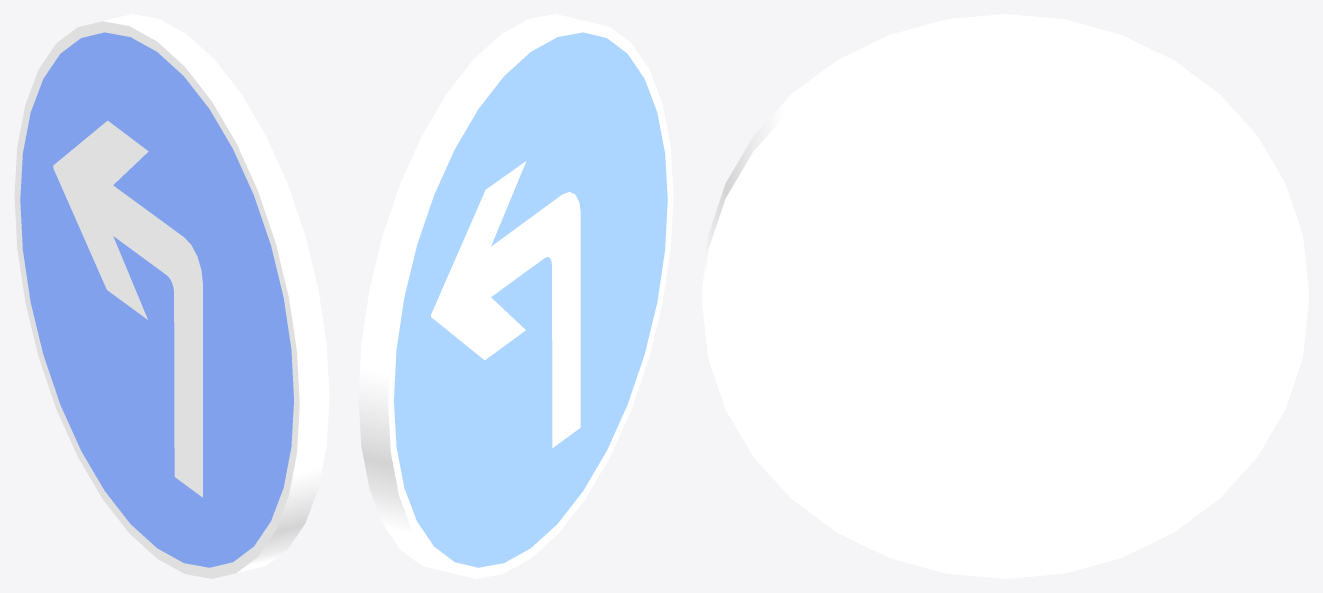
File: Turn_Left.glb
The picture shows the model from 3 angles, left to right: view 1: azimuth 30°, elevation 25°; view 2: azimuth 150°, elevation 25°; view 3: azimuth 270°, elevation 25°; orthographic projection. The views are drawn at different scales.
Visible parts, largest first — view 1: Turn_Left; view 2: Turn_Left; view 3: Turn_Left.
Boxes of the visible parts, x1,y1,x2,y2 form: Turn_Left: [14, 14, 329, 578]; Turn_Left: [358, 14, 673, 578]; Turn_Left: [702, 14, 1308, 578].
Bounding box in the file's own units: 0.0643 × 1 × 1.
